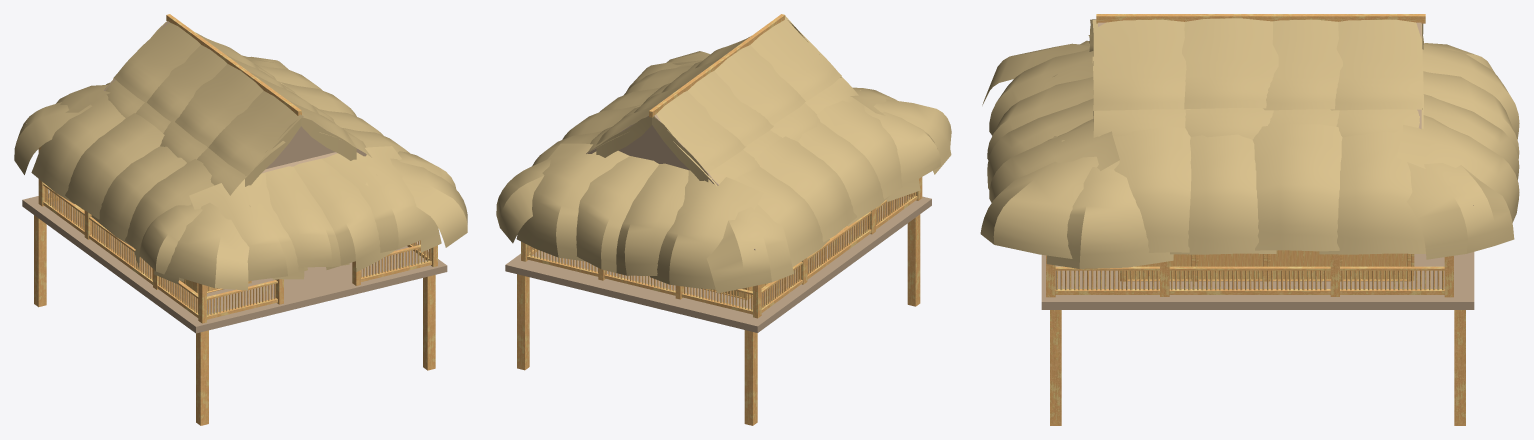
The model's file is SM_house_01.glb.
3 views of the same model, side by side, from view 1: azimuth 30°, elevation 25°; view 2: azimuth 150°, elevation 25°; view 3: azimuth 270°, elevation 25° (orthographic). The views are drawn at different scales.
Visible parts, largest first — view 1: SM_house_01; view 2: SM_house_01; view 3: SM_house_01.
Boxes of the visible parts, x1,y1,x2,y2 form: SM_house_01: [14, 14, 467, 425]; SM_house_01: [496, 14, 951, 425]; SM_house_01: [980, 14, 1519, 425].
Size of the model in its own units: 12.06 by 10.43 by 15.
Materials: 4 (2 with a texture image).
